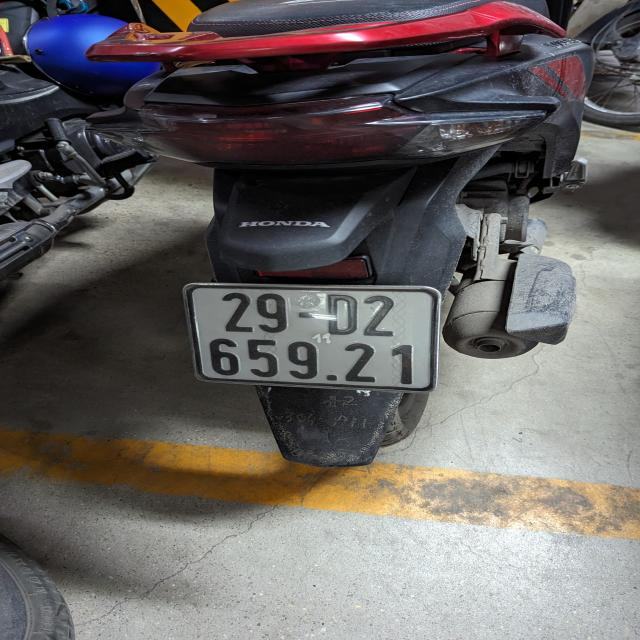License: (182, 282, 440, 394)
